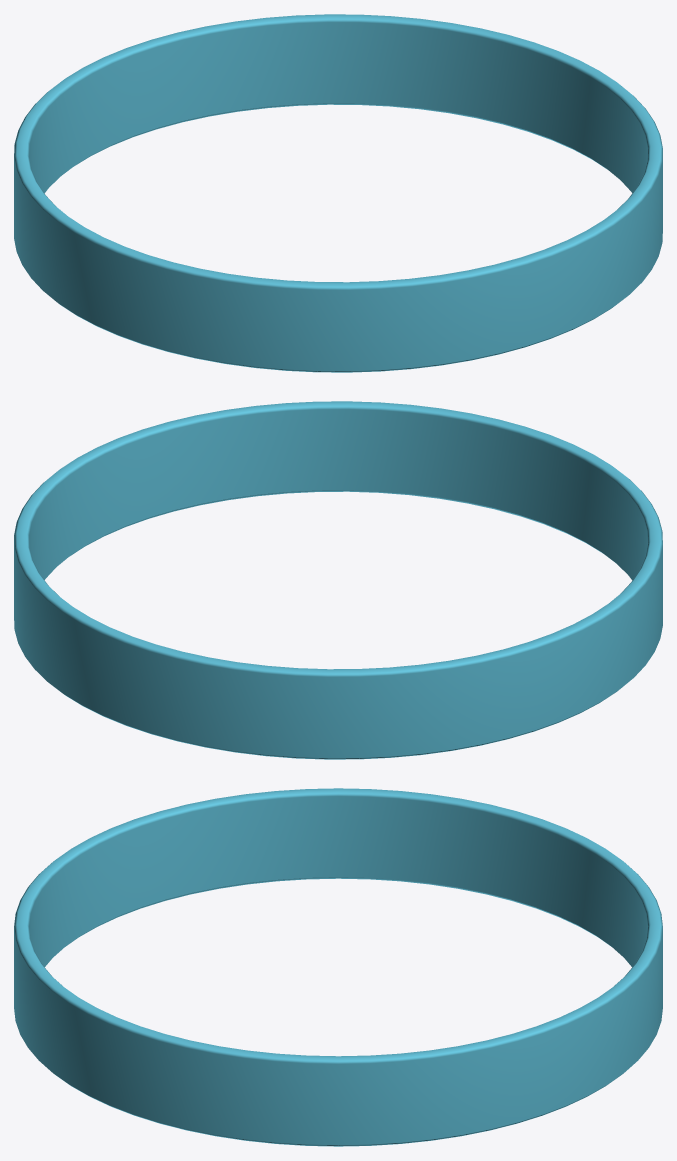
3 views of the same model, one above another, from view 1: azimuth 30°, elevation 25°; view 2: azimuth 150°, elevation 25°; view 3: azimuth 270°, elevation 25° (orthographic).
Parts seen in each view (by area): view 1: seal_body; view 2: seal_body; view 3: seal_body.
Part boxes in pixels (x1=…): seal_body: x1=14, y1=14, x2=662, y2=372; seal_body: x1=14, y1=401, x2=662, y2=759; seal_body: x1=14, y1=788, x2=662, y2=1146.
Size of the model in its own units: 0.17 by 0.025 by 0.17.
